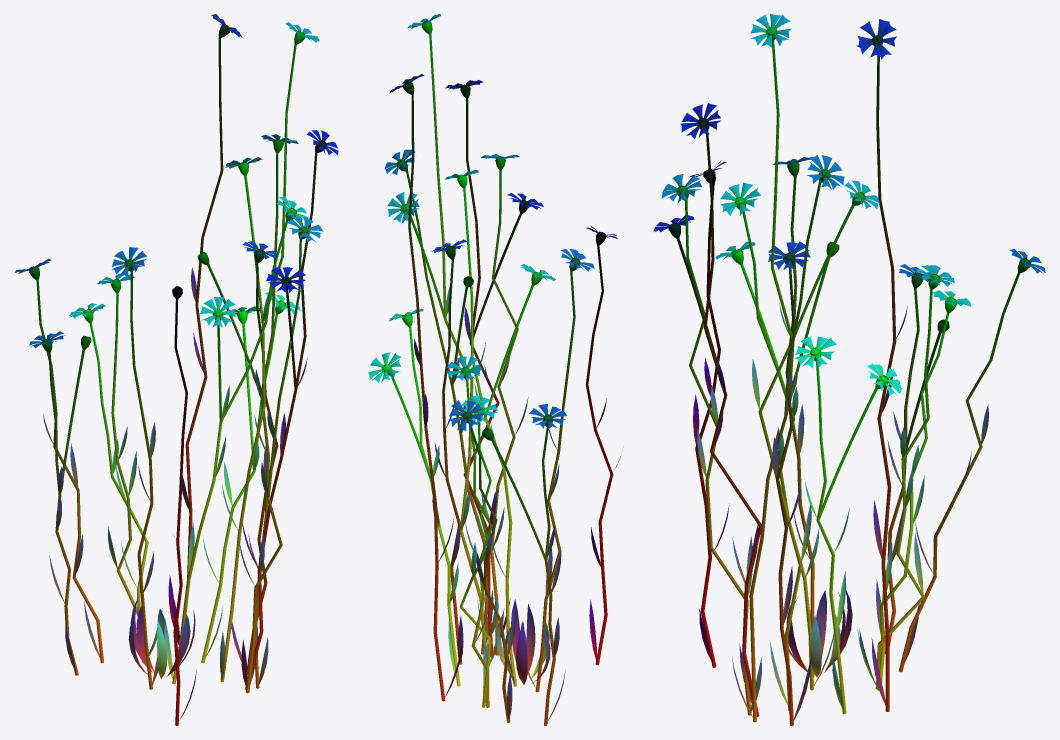
File: SM_Flower_Cornflower_C.fbx
The picture shows the model from 3 angles, left to right: view 1: azimuth 30°, elevation 25°; view 2: azimuth 150°, elevation 25°; view 3: azimuth 270°, elevation 25°; orthographic projection. The views are drawn at different scales.
Parts seen in each view (by area): view 1: SM_Flower_Cornflower_C; view 2: SM_Flower_Cornflower_C; view 3: SM_Flower_Cornflower_C.
Part boxes in pixels (x1,y1,x2,y2): SM_Flower_Cornflower_C: (14,14,338,725); SM_Flower_Cornflower_C: (368,14,620,725); SM_Flower_Cornflower_C: (653,14,1045,725).
Size of the model in its own units: 0.2625 by 0.7274 by 0.3545.
